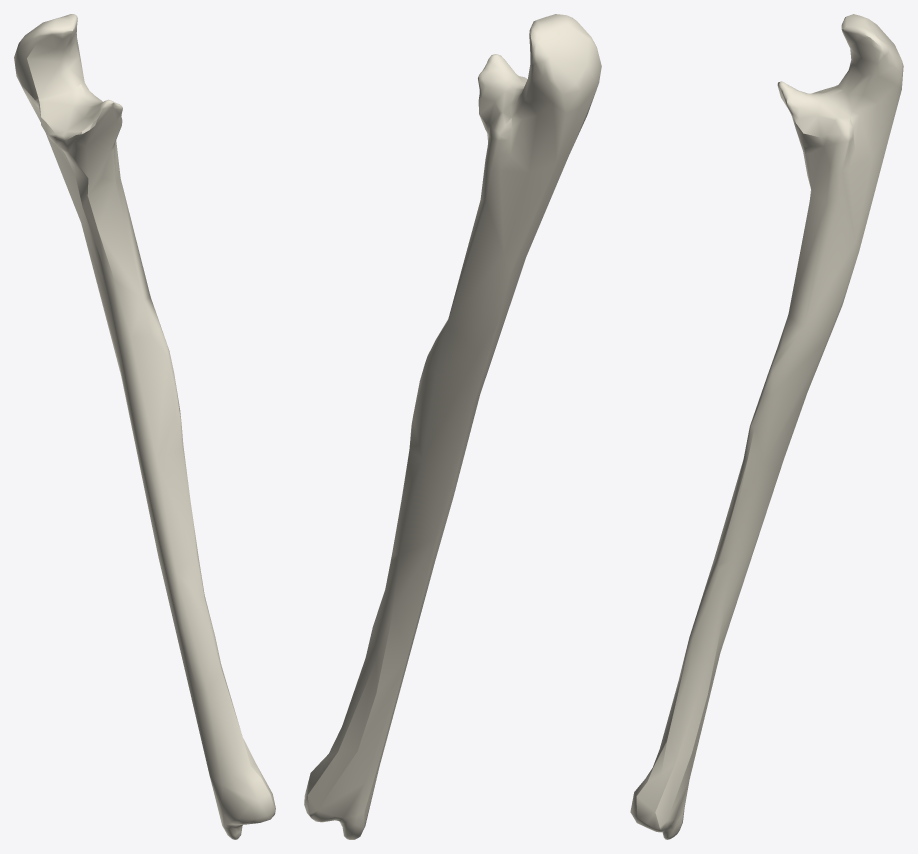
Rendered from fma23468_fj3286.glb.
3 views of the same model, side by side, from view 1: azimuth 30°, elevation 25°; view 2: azimuth 210°, elevation 25°; view 3: azimuth 270°, elevation 25° (orthographic). The views are drawn at different scales.
Parts seen in each view (by area): view 1: FMA23468_FJ3286; view 2: FMA23468_FJ3286; view 3: FMA23468_FJ3286.
Part boxes in pixels (x1,y1,x2,y2): FMA23468_FJ3286: [14, 14, 275, 839]; FMA23468_FJ3286: [304, 14, 601, 839]; FMA23468_FJ3286: [630, 14, 903, 839].
Size of the model in its own units: 0.0502 by 0.2475 by 0.0787.
